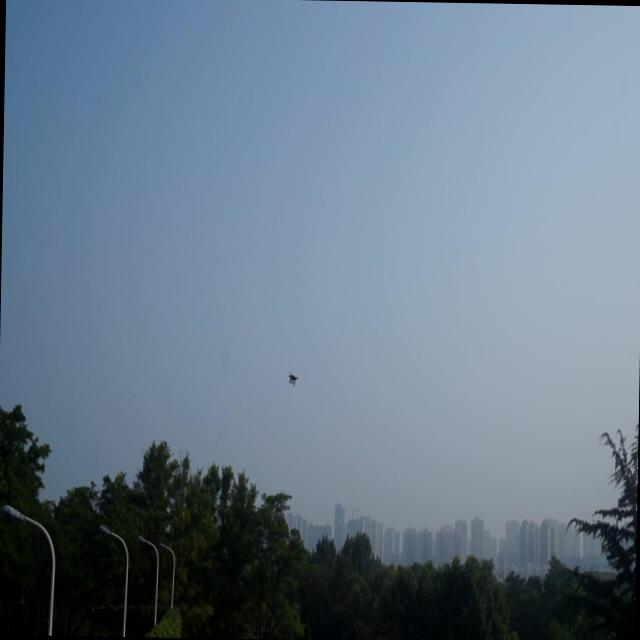drone: (287, 368, 297, 386)
